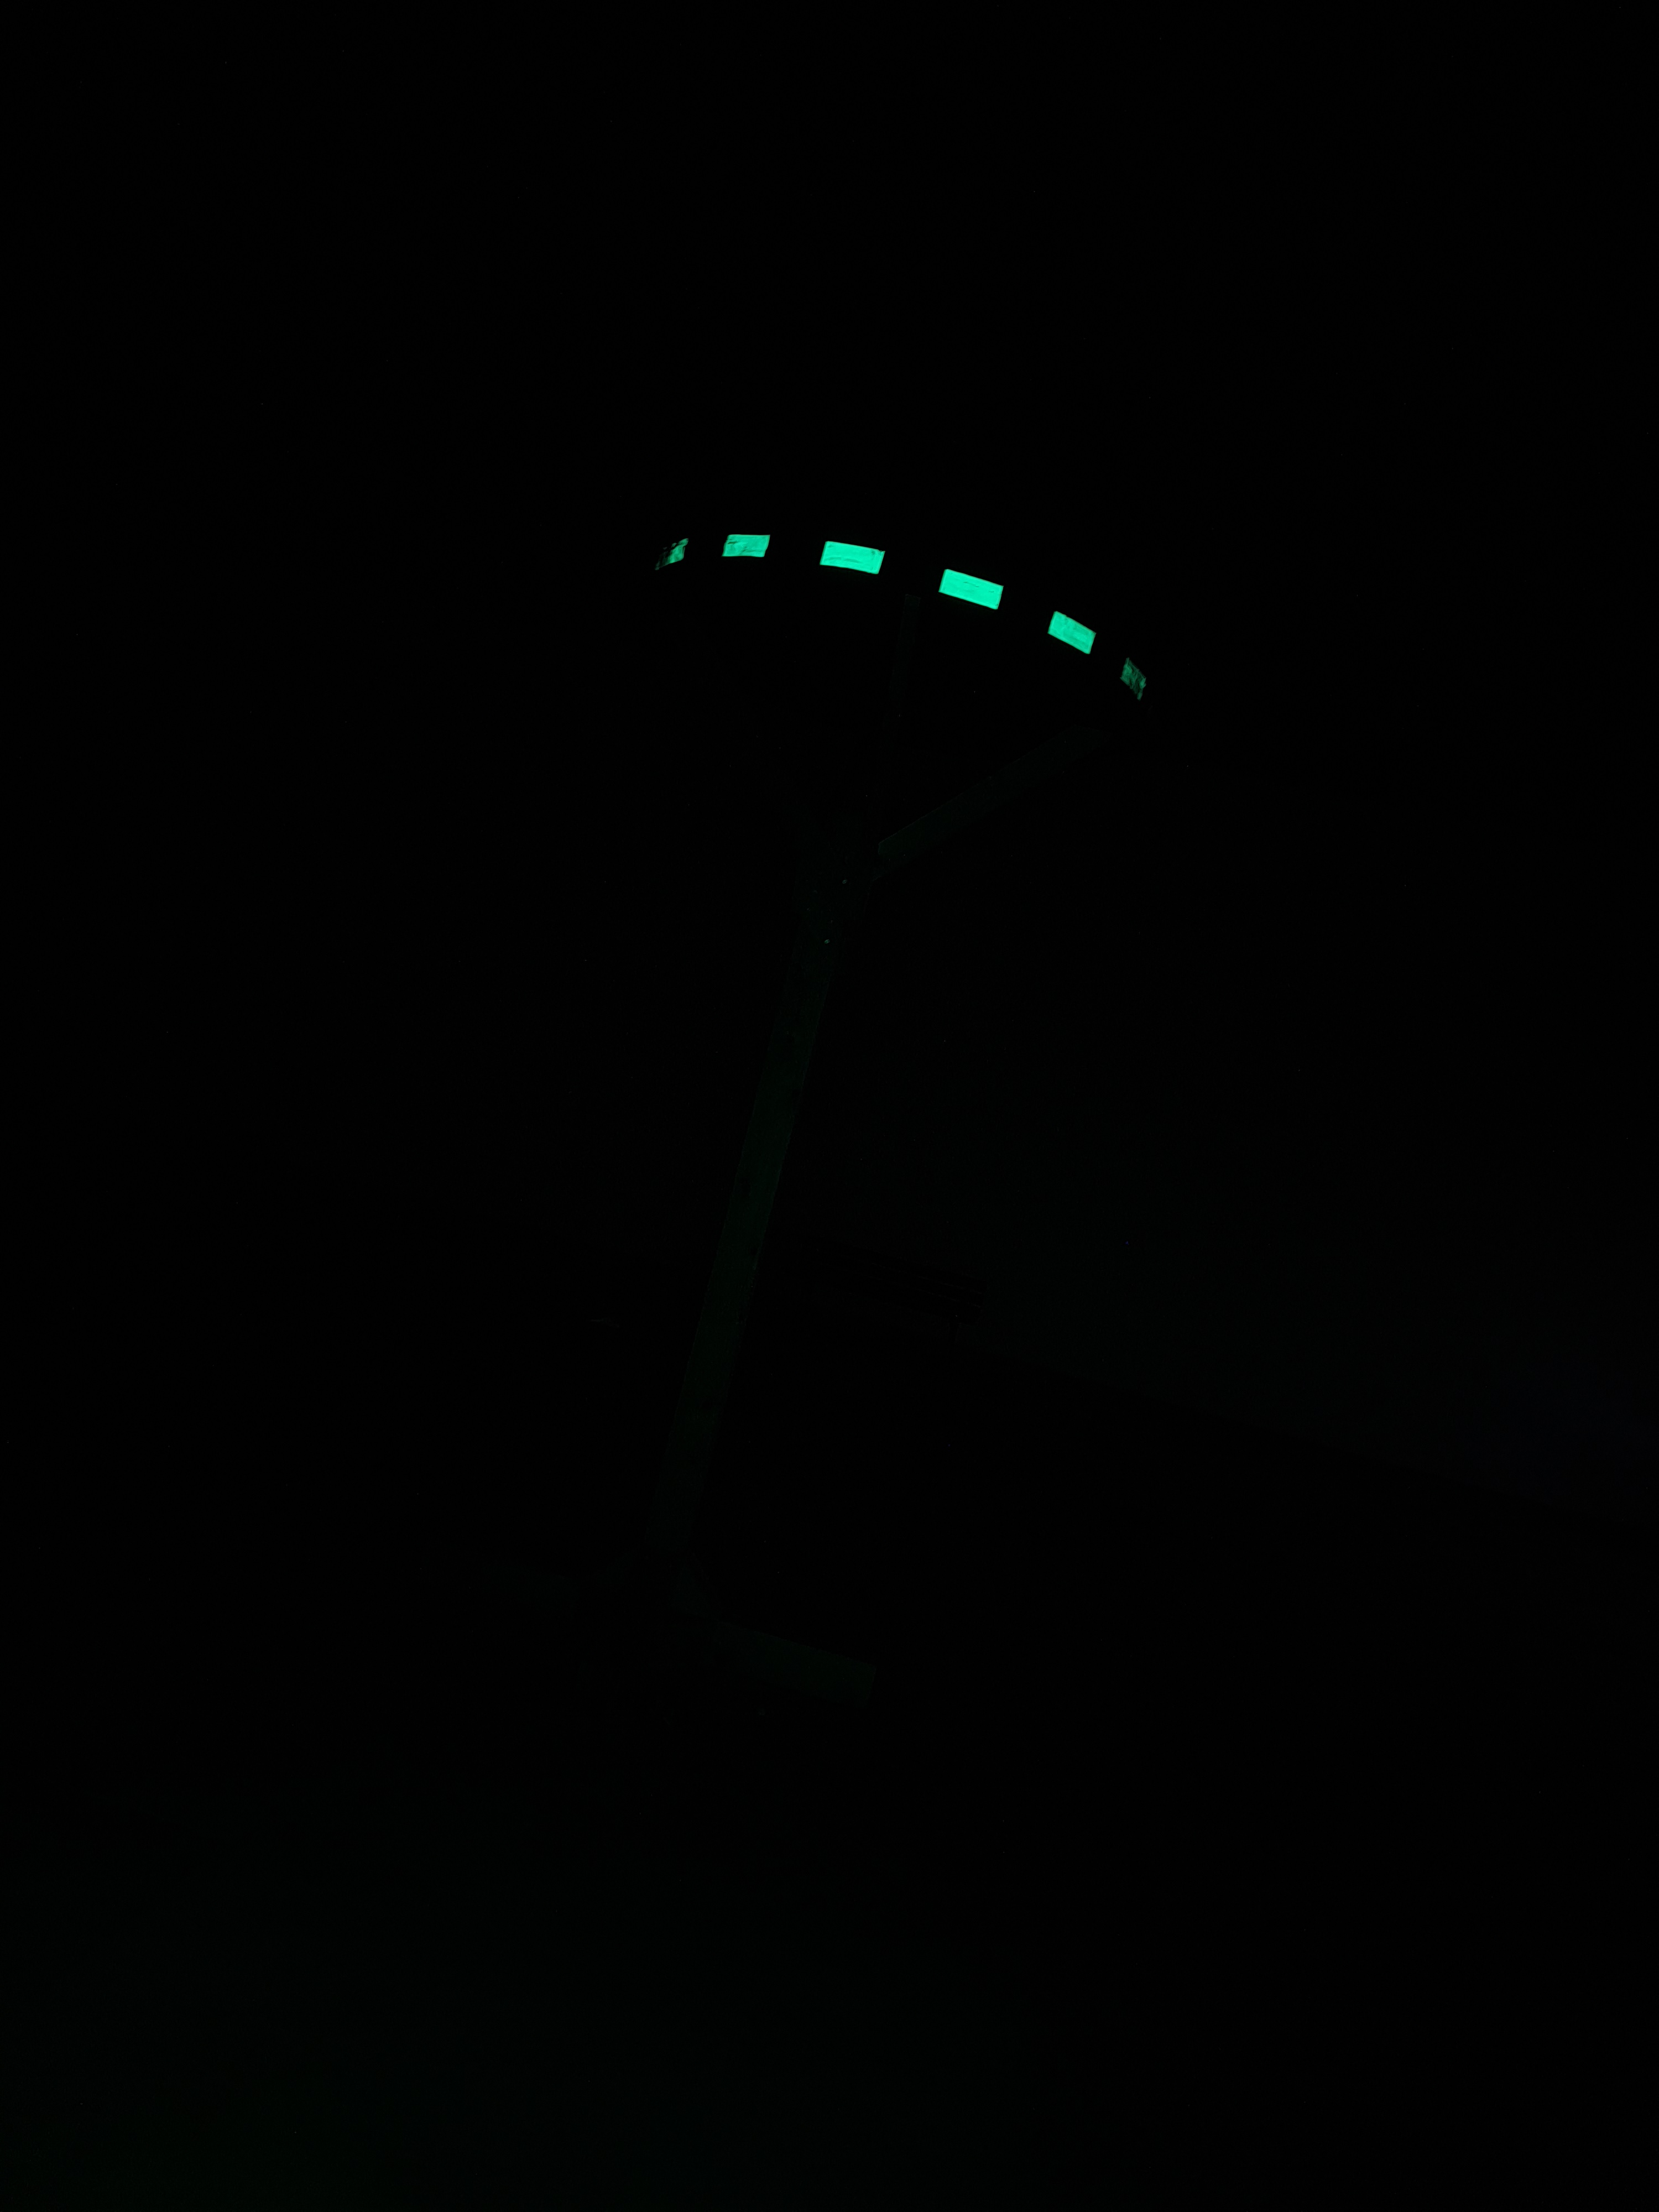hoop: (645, 528, 1155, 709)
